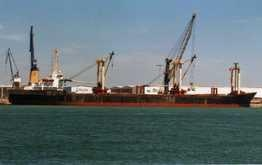Cargoship: (3, 12, 259, 108)
